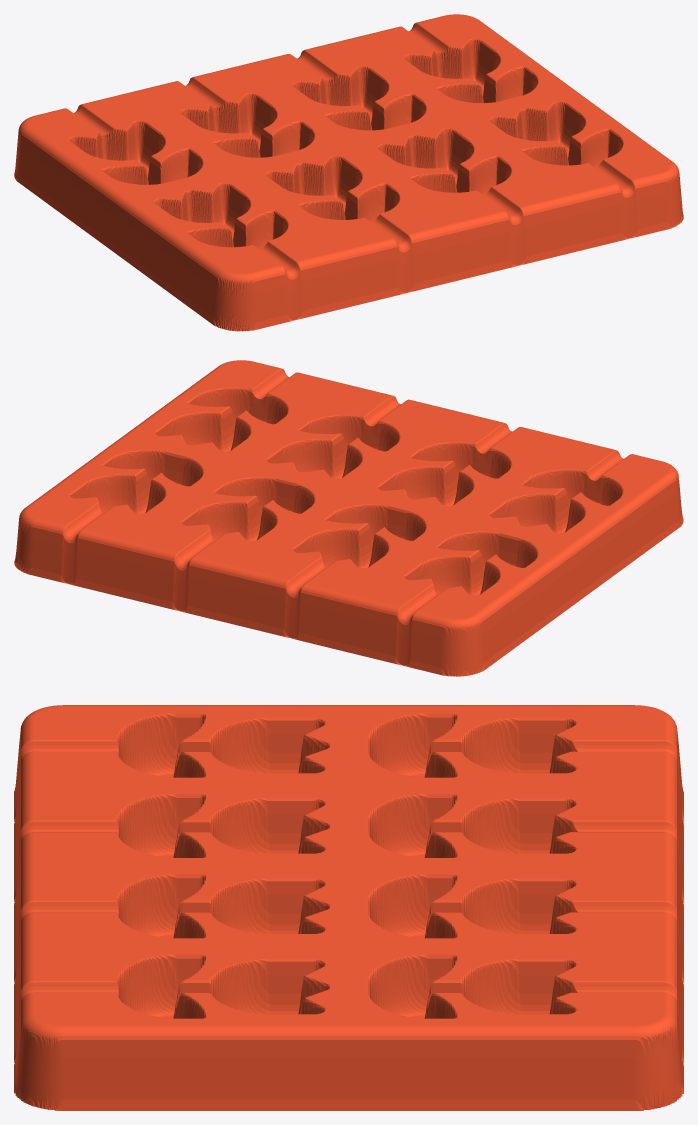
File: mold.glb
3 views of the same model, one above another, from view 1: azimuth 30°, elevation 25°; view 2: azimuth 150°, elevation 25°; view 3: azimuth 270°, elevation 25° (orthographic). The views are drawn at different scales.
Parts seen in each view (by area): view 1: geometry_0; view 2: geometry_0; view 3: geometry_0.
Boxes of the visible parts, <box> form: geometry_0: <box>14,14,683,331</box>; geometry_0: <box>14,360,683,676</box>; geometry_0: <box>14,705,683,1110</box>.
Size of the model in its own units: 0.1459 by 0.0155 by 0.1229.
